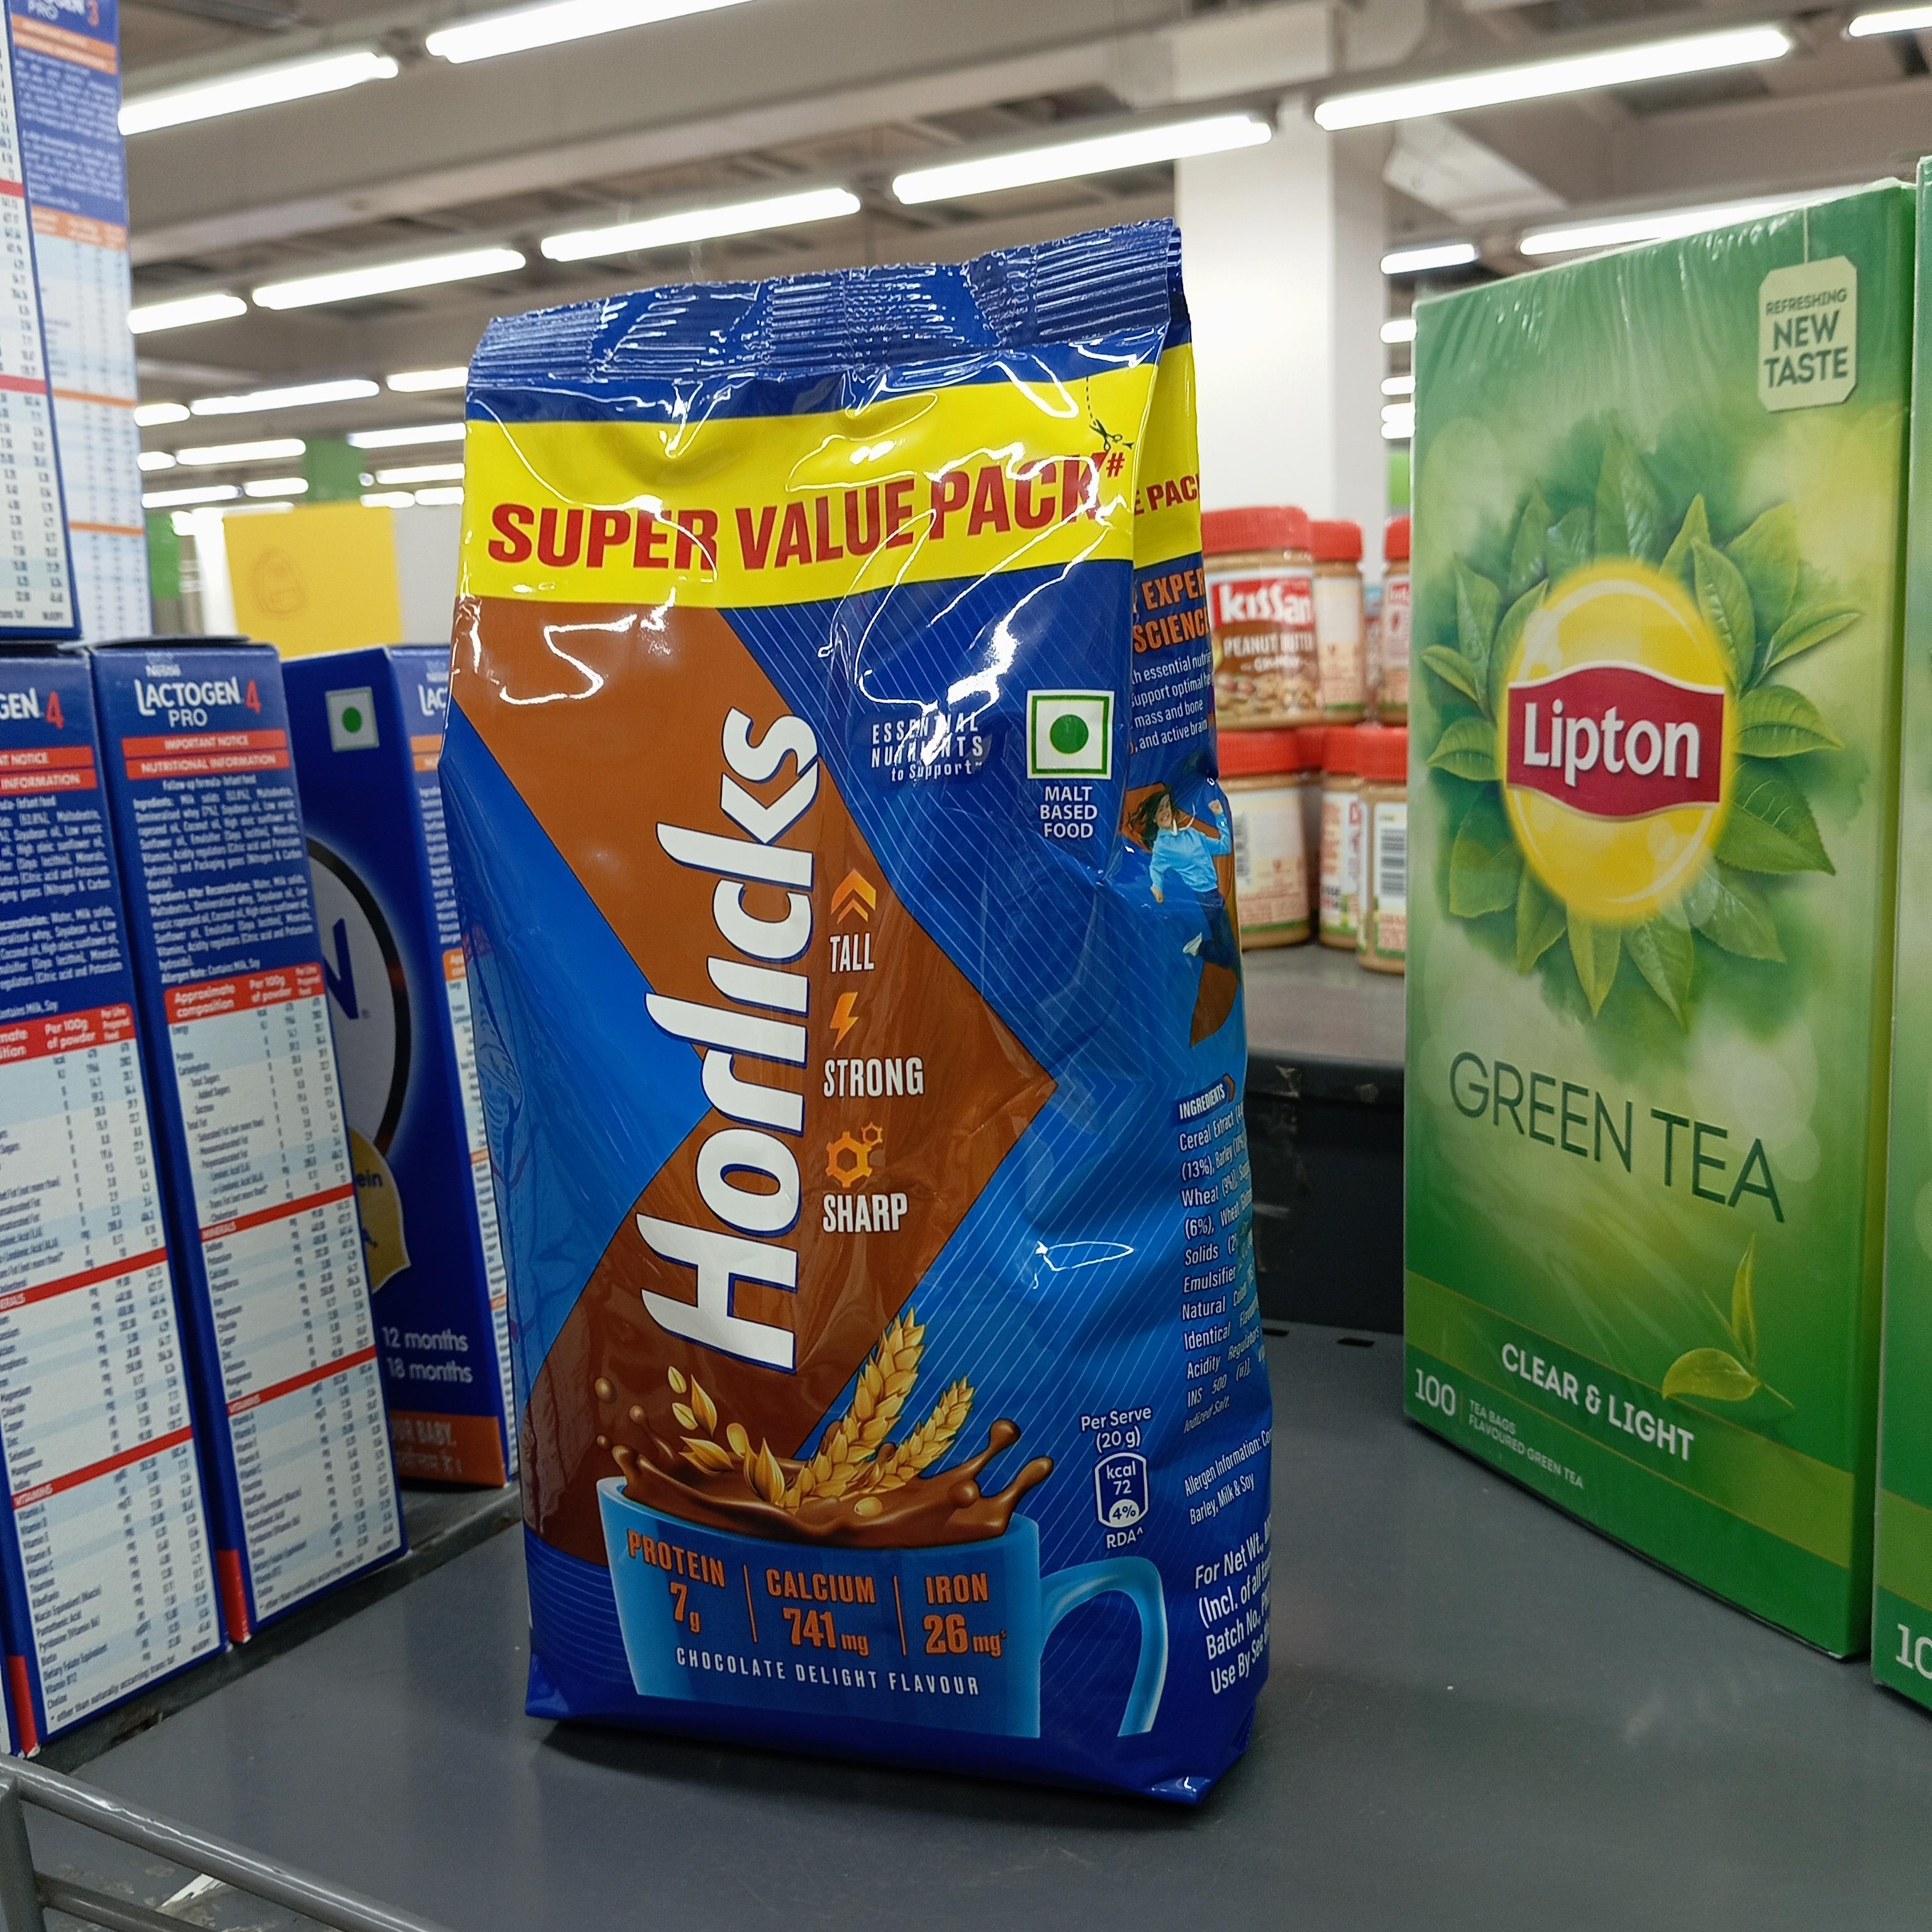HORLICK_CHOCOLATE_750_G_POUCH: (446, 258, 1290, 1829)
